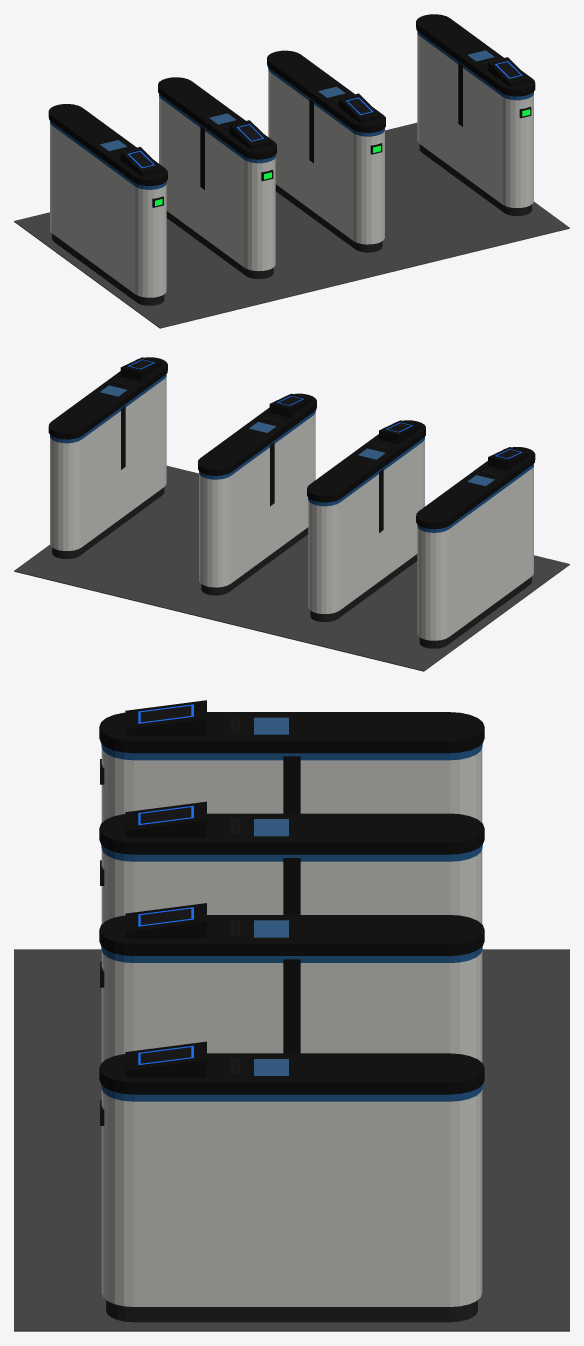
File: gteki_gate_array_3w1_oneway.glb
3 renders of one model, top to bottom at view 1: azimuth 30°, elevation 25°; view 2: azimuth 150°, elevation 25°; view 3: azimuth 270°, elevation 25°, orthographic. The views are drawn at different scales.
Visible parts, largest first — view 1: VIS_body; view 2: VIS_body; view 3: VIS_body.
Boxes of the visible parts, <box> form: VIS_body: <box>14,14,569,328</box>; VIS_body: <box>14,357,569,671</box>; VIS_body: <box>14,700,569,1331</box>.
Size of what is drawn, in the model's own units: 3.08 by 0.985 by 1.9.
Materials: 1 (1 with a texture image).
